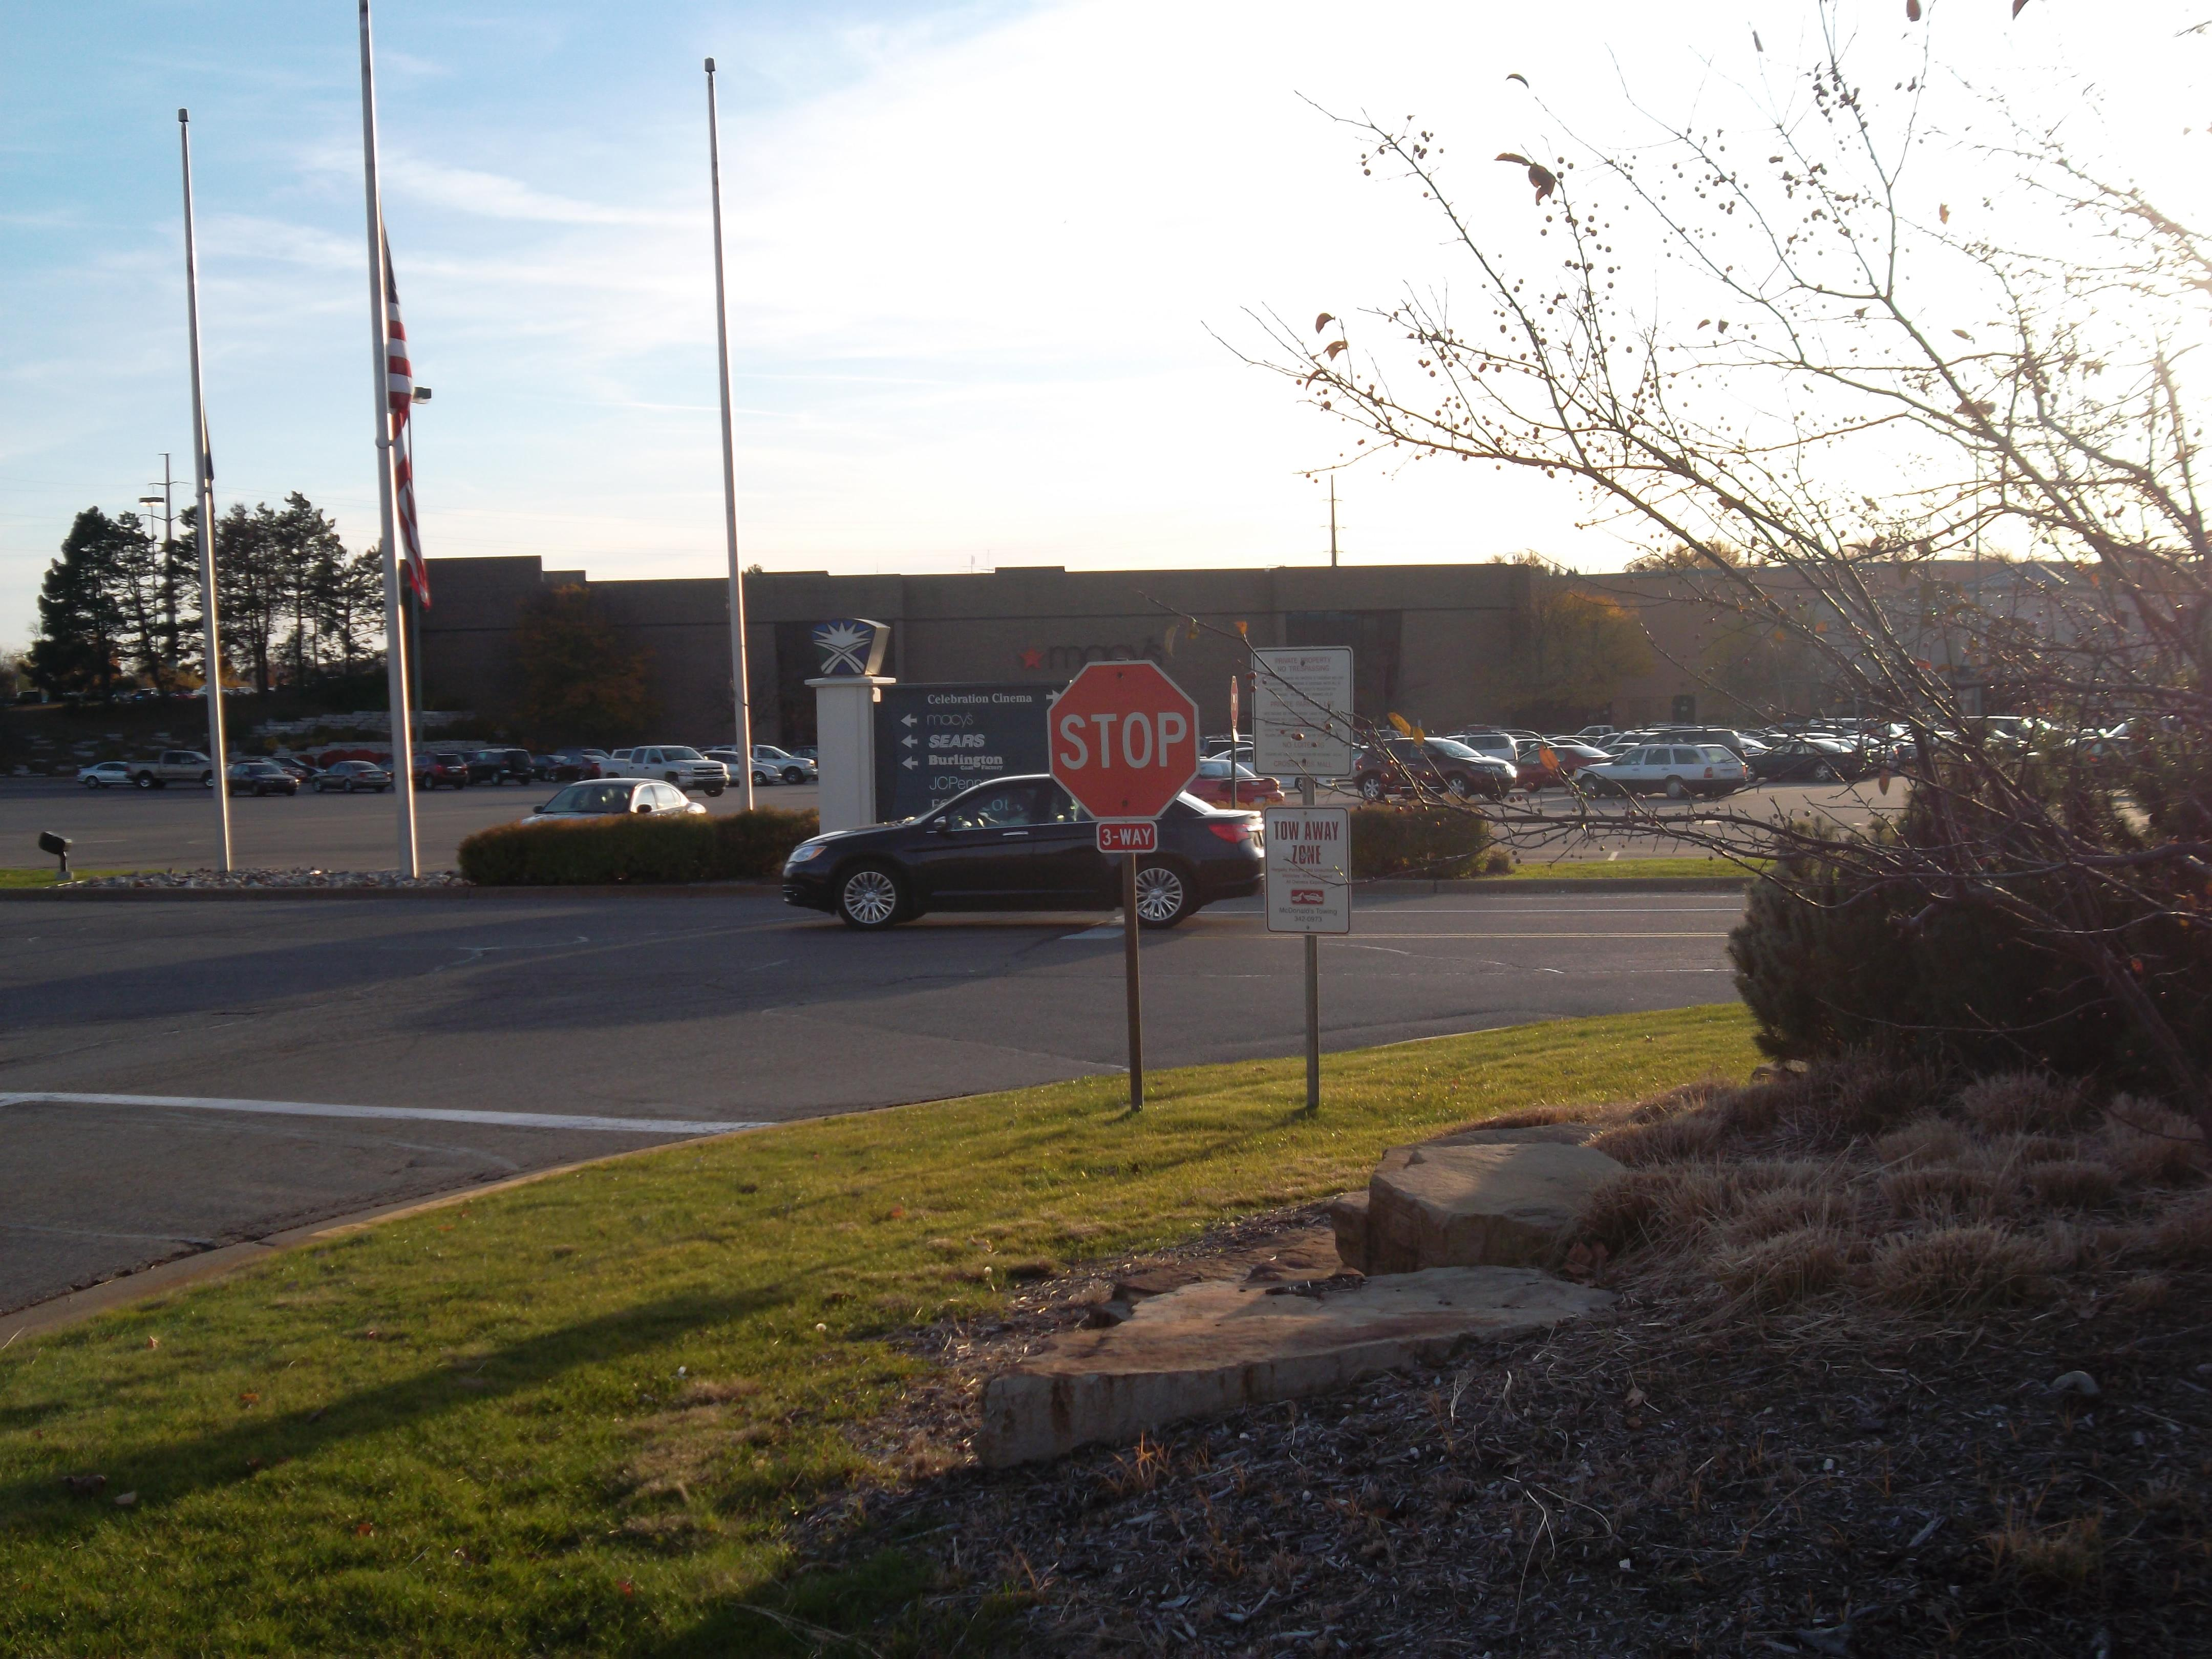stop: (1045, 659, 1204, 824)
